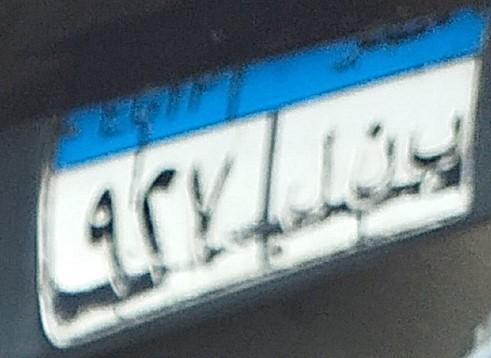2: (135, 165, 180, 283)
7: (181, 154, 237, 239)
9: (79, 187, 129, 305)
baa: (405, 115, 465, 175)
laam: (279, 130, 337, 227)
noon: (346, 122, 398, 203)
